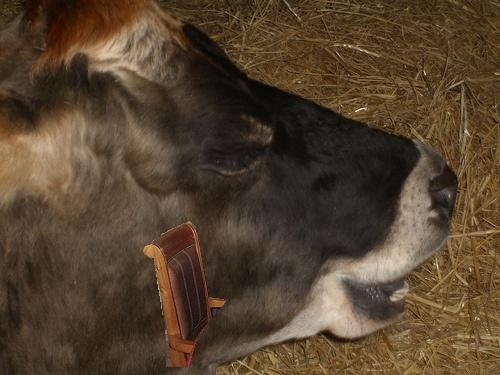tampered: (144, 222, 226, 367)
